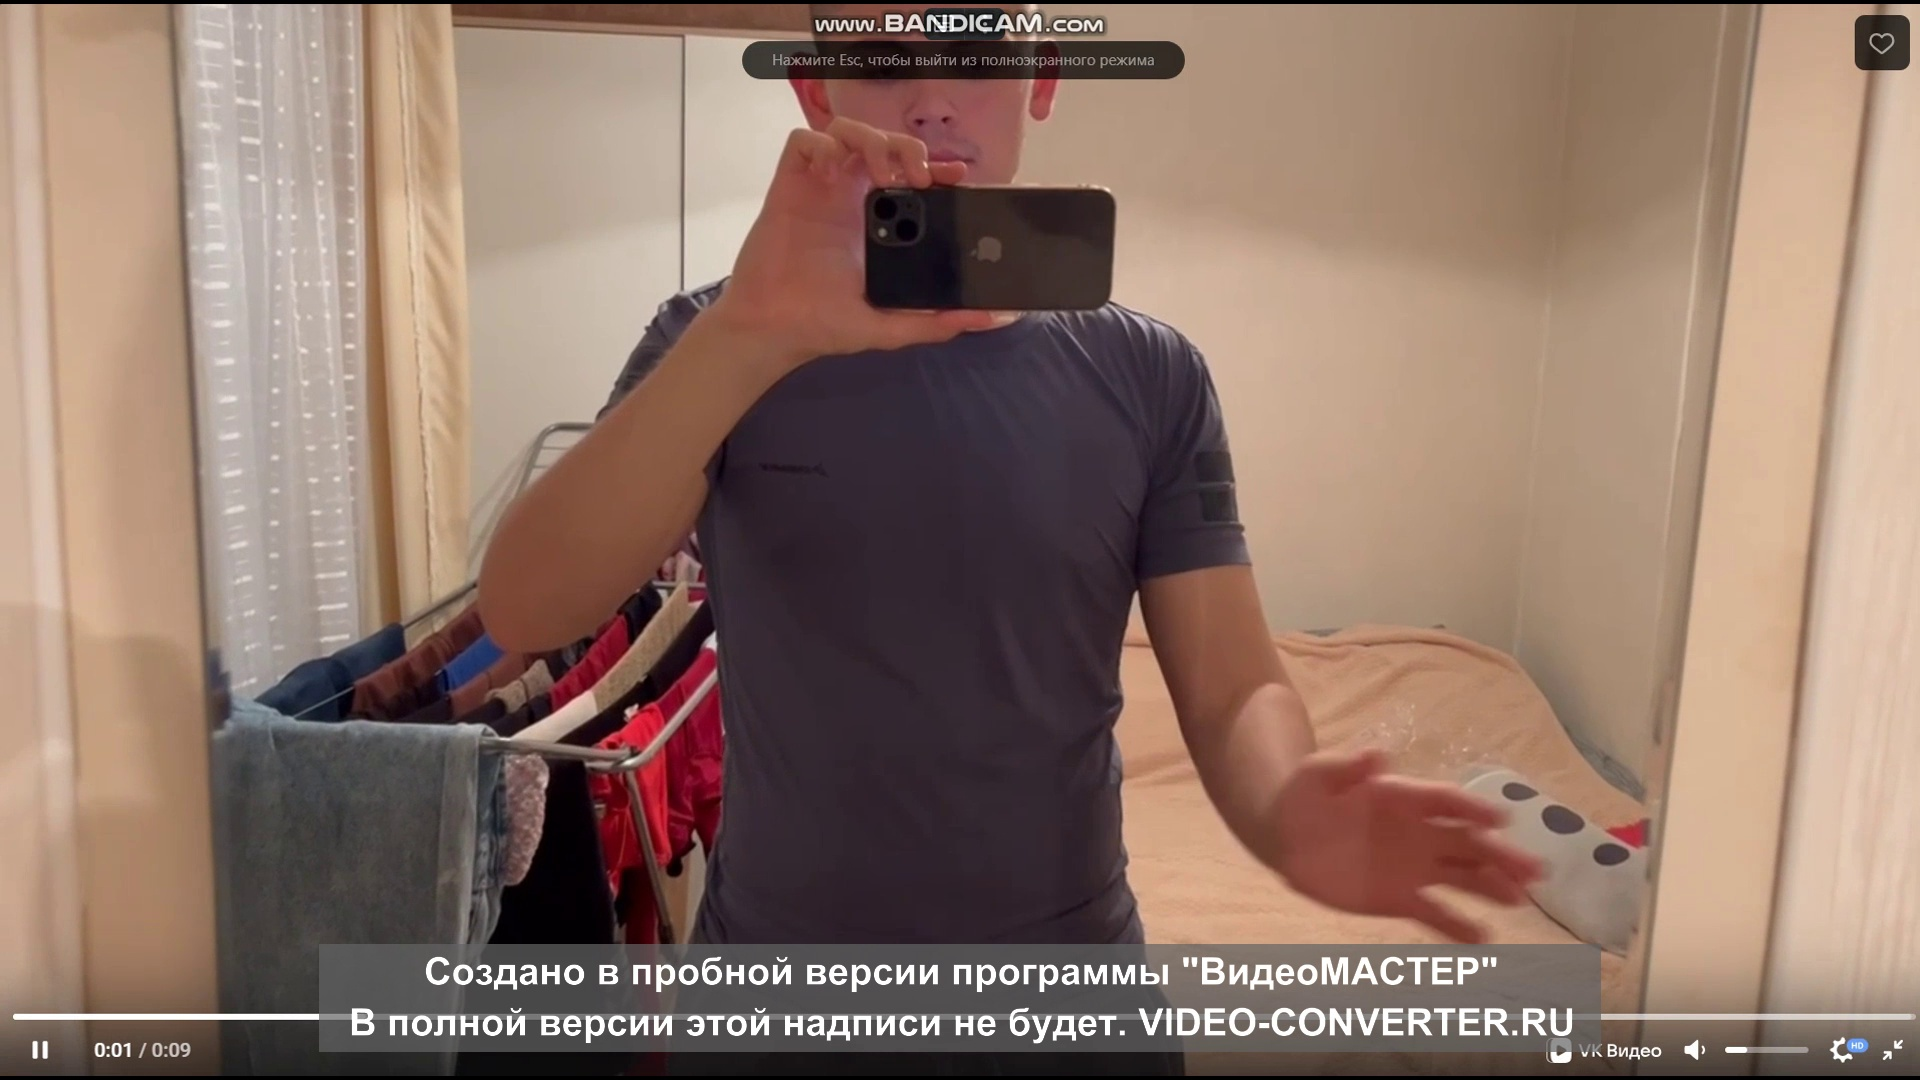Ладонь: (1262, 740, 1548, 936)
